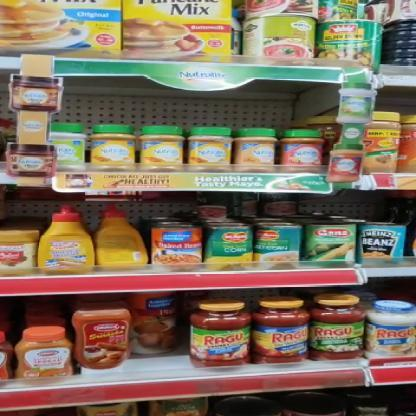Nutralite ACHARI MAYO 300g-275g-25g-: (140, 124, 184, 172), (93, 123, 137, 169), (190, 126, 233, 168)
Nutralite CHEESY GARLIC MAYO 300g-275g-25g-: (240, 127, 275, 173)
Nutralite TANDOORI MAYO 300g-275g-25g-: (280, 128, 324, 172)
Nutralite VEG MAYO 300g-275g-25g-: (50, 122, 88, 170)
